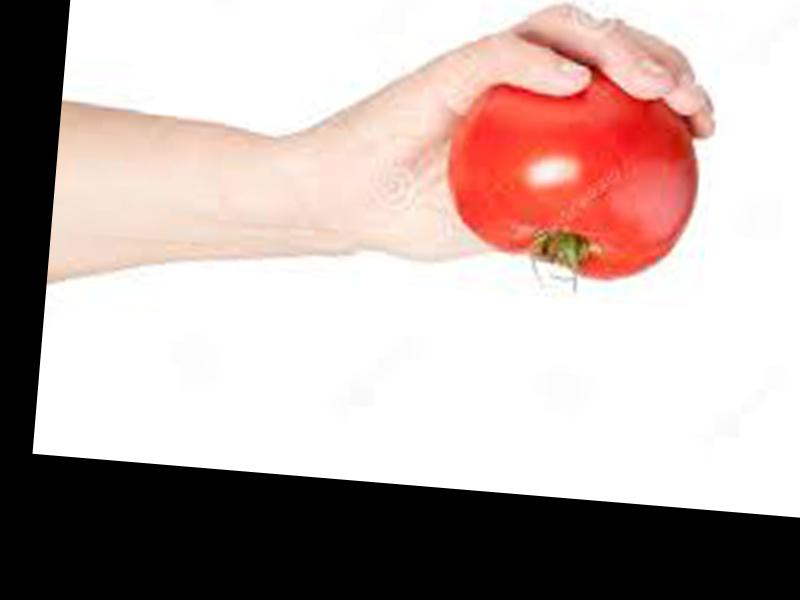Tomato: (436, 57, 706, 289)
